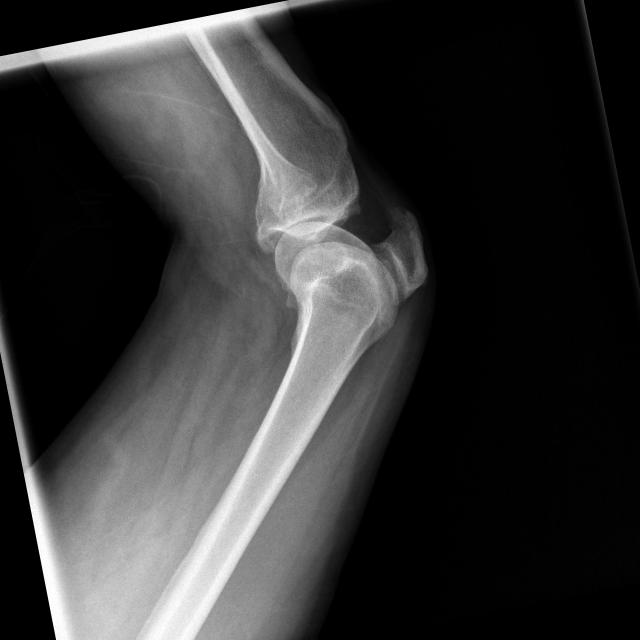Knee: (235, 119, 446, 360)
